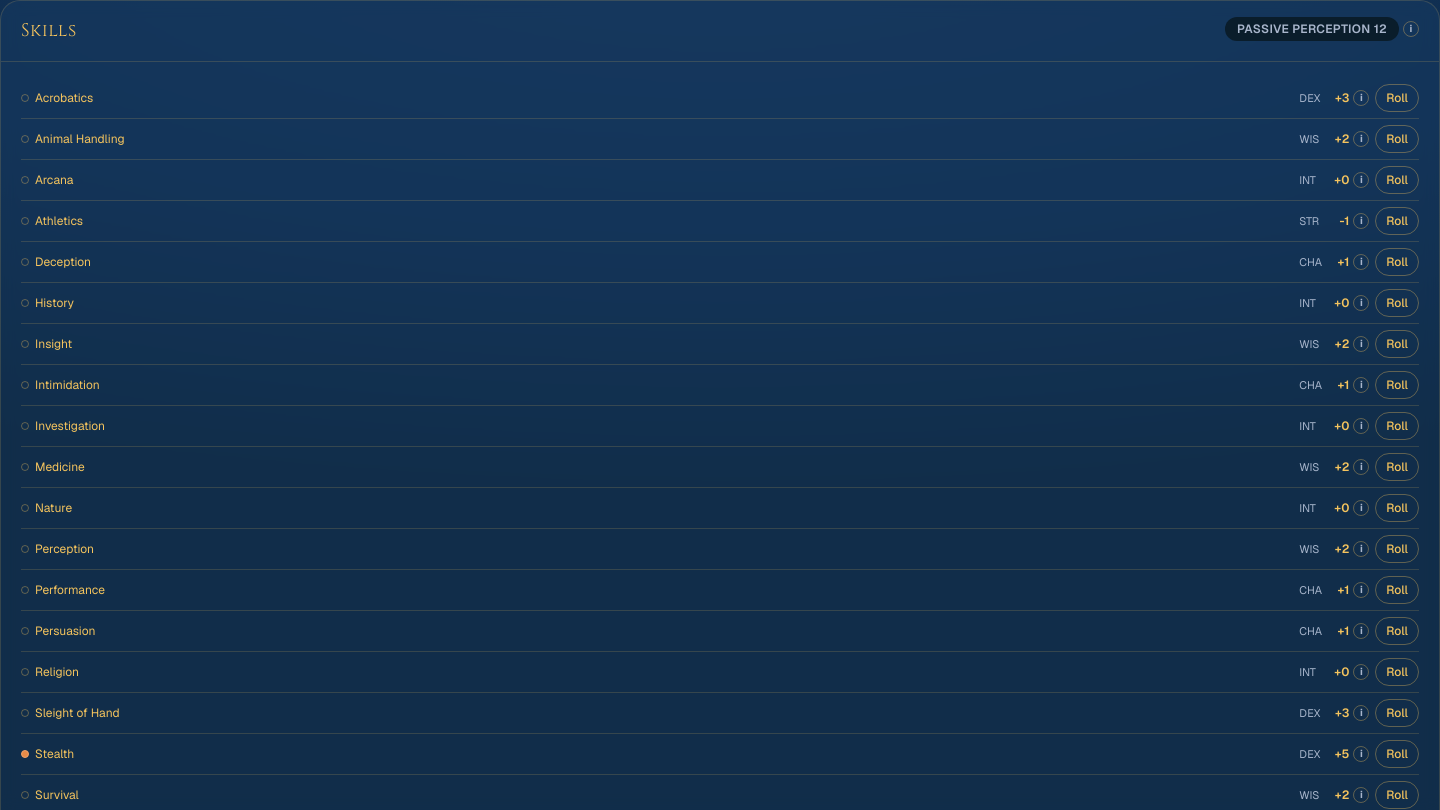
Test: SkillsPanel › a skill's tooltip breaks the modifier down, with a proficiency line only when proficient
This screenshot has width=1440, height=810.
Click the button named "About Stealth" at (1361, 754), box [1353,746,1369,762]
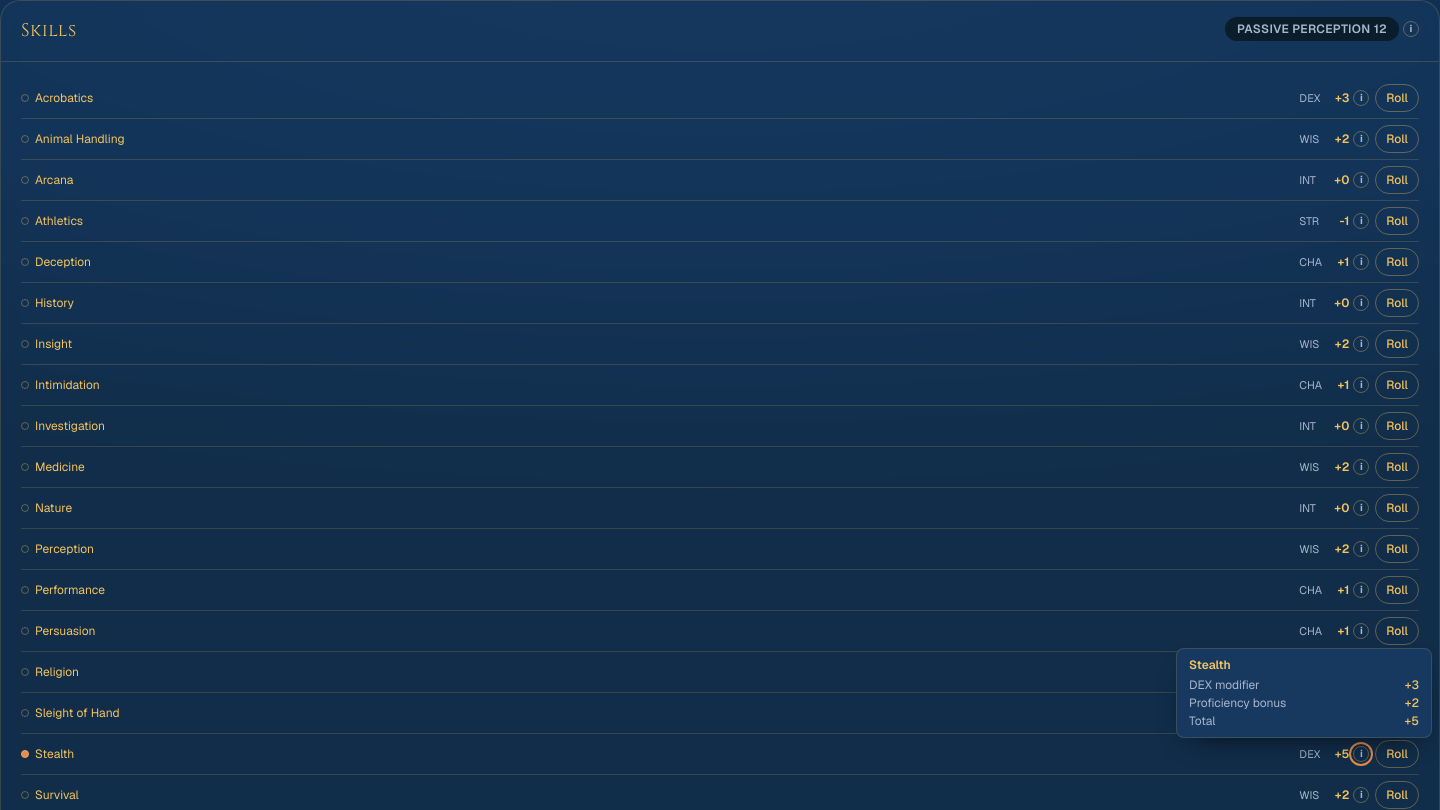
Press Escape
Click the button named "About Arcana" at (1361, 180), box [1353,172,1369,188]
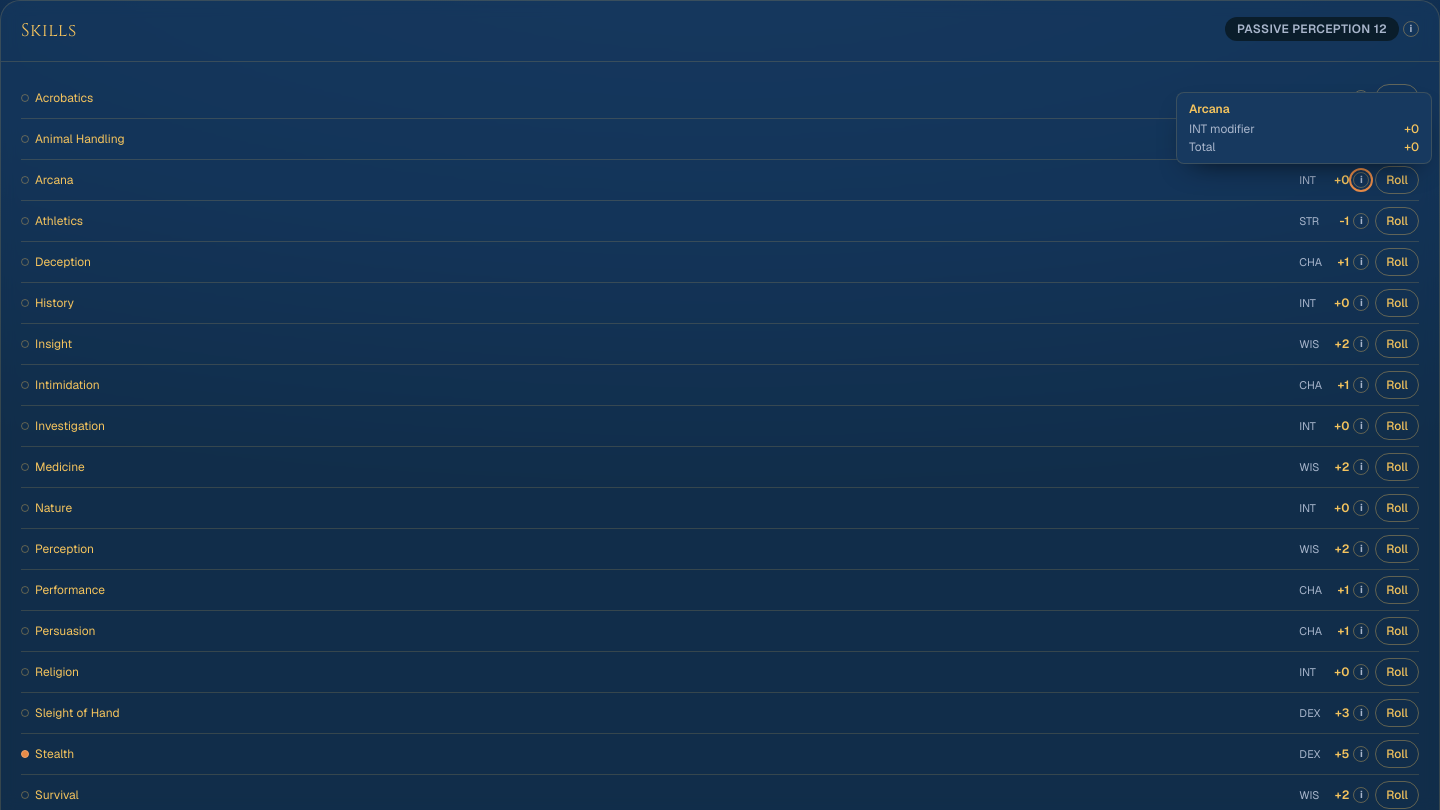
Check: the tooltip no longer shows "Proficiency bonus", box [1176,92,1432,164]
